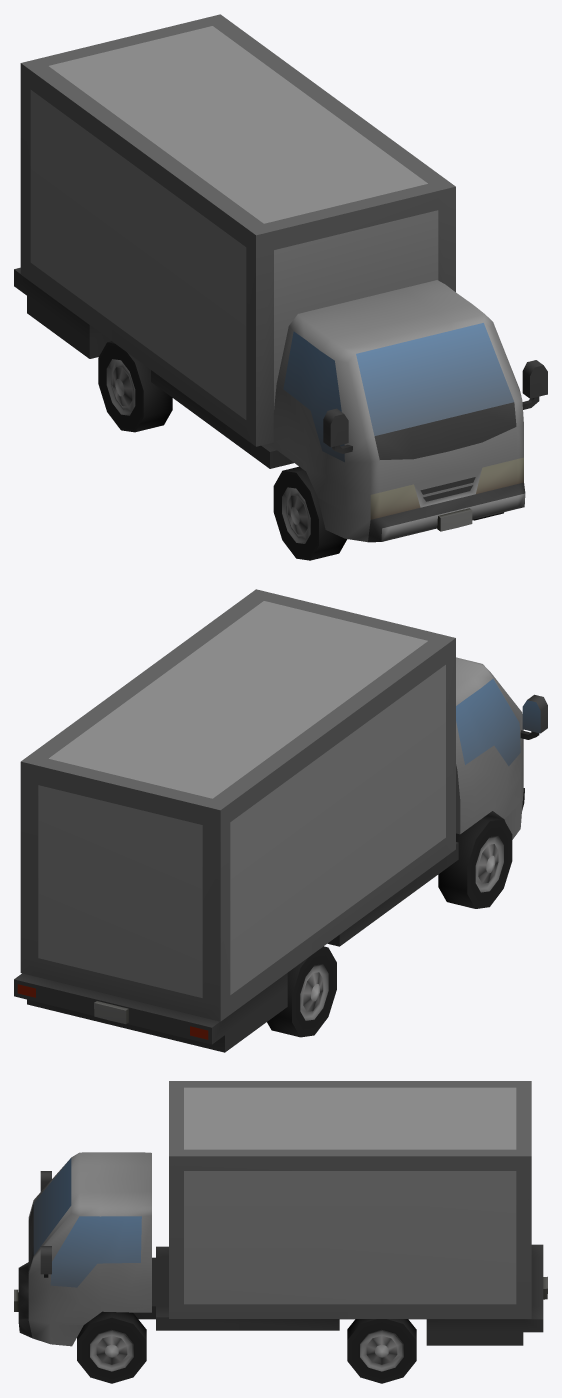
Rendered from vehicles-trucks-vans-box-truck_v1.glb.
The picture shows the model from 3 angles, top to bottom: view 1: azimuth 30°, elevation 25°; view 2: azimuth 150°, elevation 25°; view 3: azimuth 270°, elevation 25°; orthographic projection. The views are drawn at different scales.
Parts seen in each view (by area): view 1: Box Truck.001, Box Truck; view 2: Box Truck.001, Box Truck; view 3: Box Truck.001, Box Truck.
Part boxes in pixels (box(x1,y1,x2,y2)): Box Truck.001: box(14, 14, 547, 560); Box Truck: box(106, 323, 513, 543); Box Truck.001: box(14, 589, 547, 1052); Box Truck: box(300, 678, 540, 1020); Box Truck.001: box(14, 1081, 547, 1383); Box Truck: box(33, 1158, 403, 1371).
Size of the model in its own units: 2.72 by 3.55 by 7.5.
